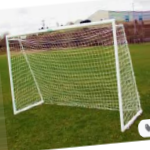goals: (5, 17, 142, 132)
